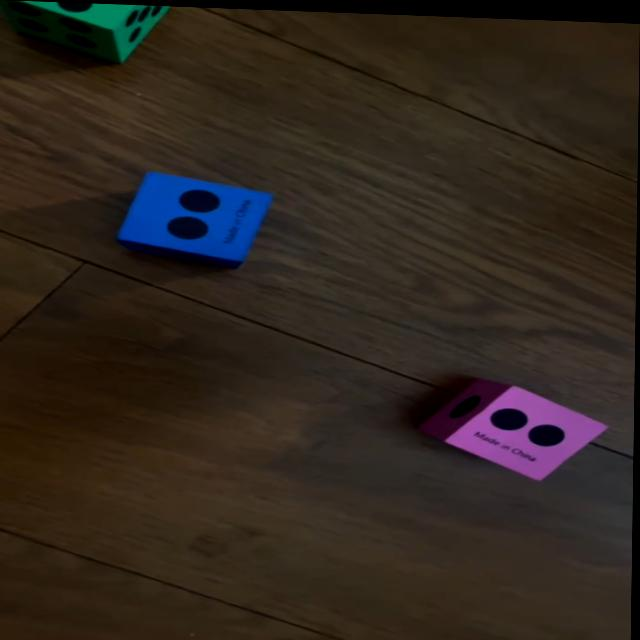blue_block: (120, 171, 275, 268)
